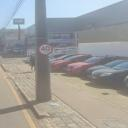speed_limit_40: (38, 44, 53, 56)
